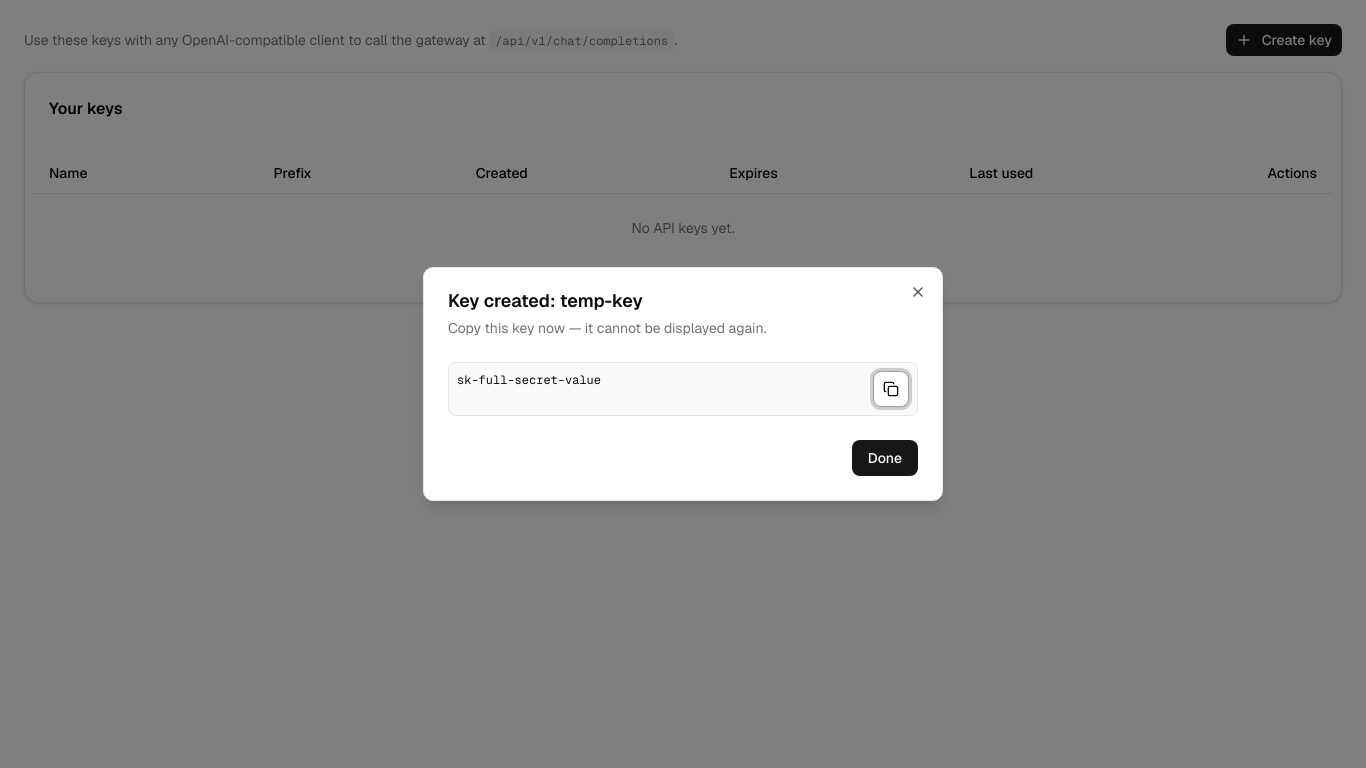
Test: ApiKeysPage › closes the secret dialog via the dialog's close (X) button
Expected: the heading "Key created: temp-key" is shown, [448,289,643,312]
Click the 1st button named "Close" at (918, 292), box [910,284,926,300]
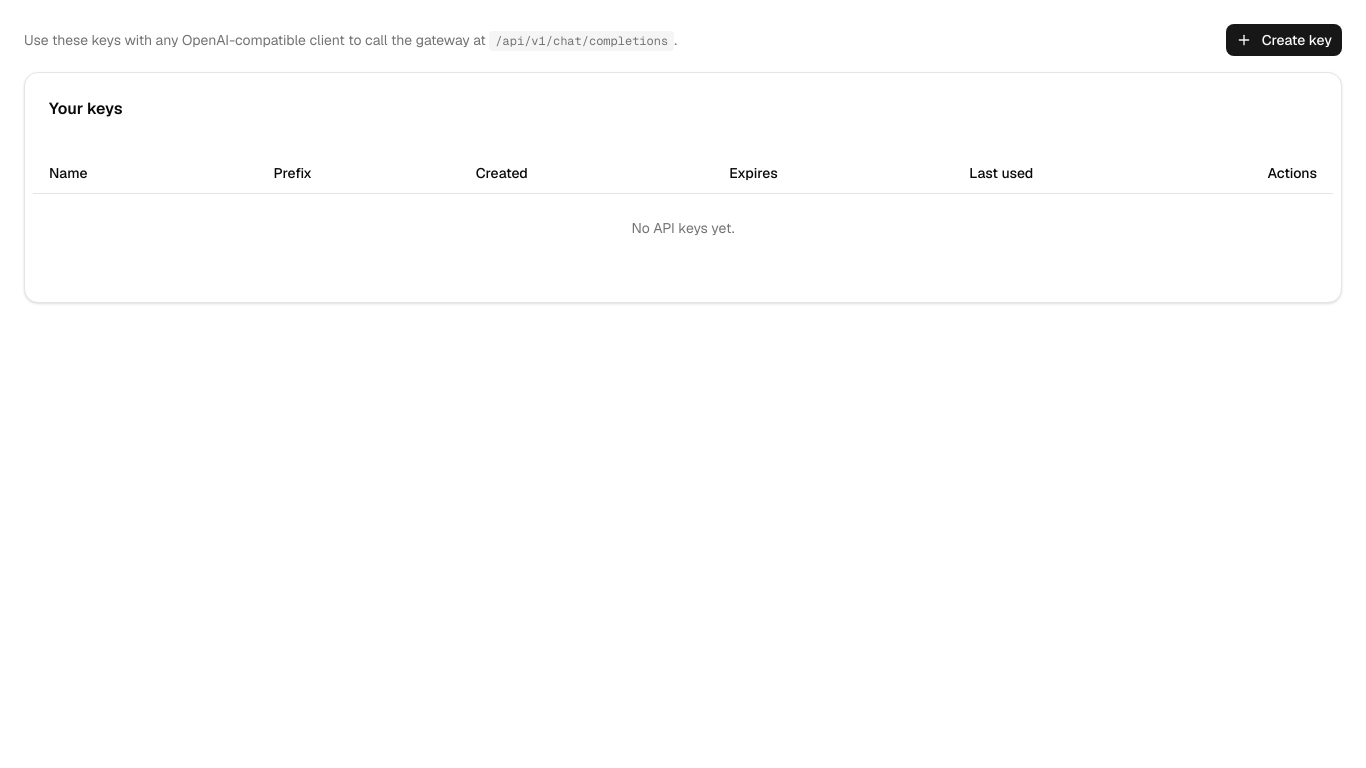
Expected: the heading "Key created: temp-key" is gone
